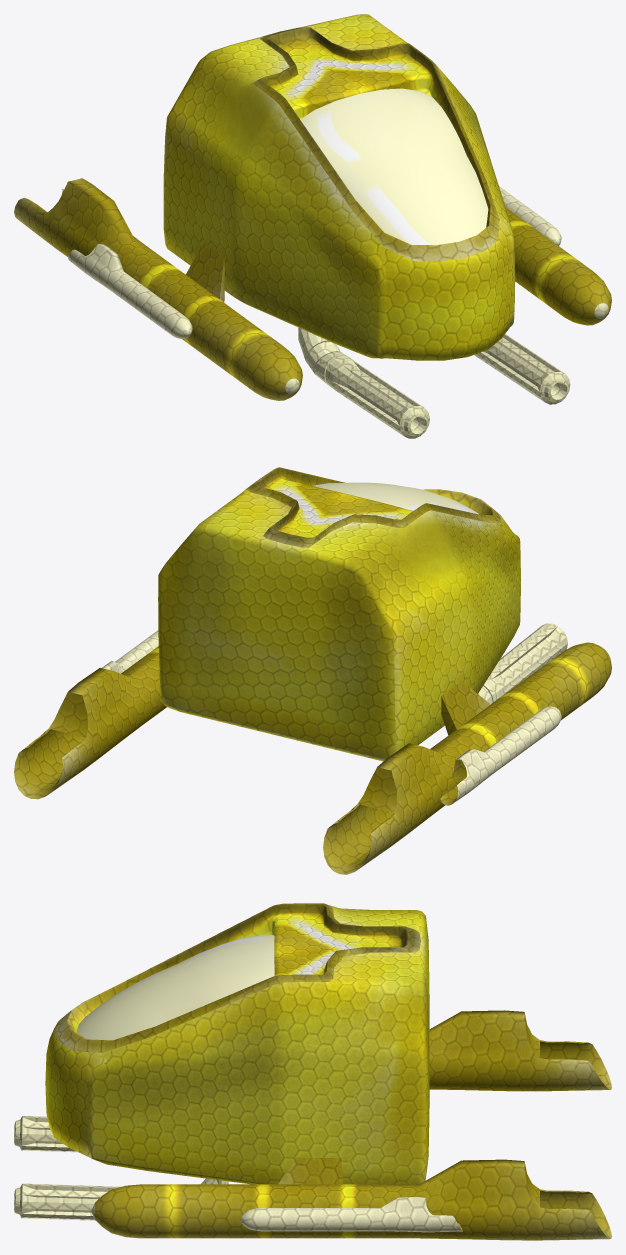
The model's file is frogUV (1).fbx.
3 renders of one model, top to bottom at view 1: azimuth 30°, elevation 25°; view 2: azimuth 150°, elevation 25°; view 3: azimuth 270°, elevation 25°, orthographic.
Visible parts, largest first — view 1: pCube4, Thruster1, pSphere2, Thruster, pCylinder1, pCylinder2; view 2: pCube4, Thruster1, Thruster, pCylinder1, pSphere2; view 3: pCube4, Thruster, Thruster1, pSphere2, pCylinder2, pCylinder1.
Boxes of the visible parts, x1,y1,x2,y2 form: pCube4: [163, 14, 515, 360]; Thruster1: [14, 178, 302, 400]; pSphere2: [300, 88, 488, 245]; Thruster: [499, 186, 611, 325]; pCylinder1: [298, 327, 429, 438]; pCylinder2: [474, 334, 570, 404]; pCube4: [158, 467, 520, 761]; Thruster1: [323, 642, 611, 874]; Thruster: [14, 630, 166, 799]; pCylinder1: [478, 623, 567, 704]; pSphere2: [312, 482, 478, 514]; pCube4: [45, 903, 429, 1184]; Thruster: [91, 1157, 611, 1240]; Thruster1: [429, 1010, 611, 1091]; pSphere2: [76, 934, 274, 1040]; pCylinder2: [14, 1178, 228, 1220]; pCylinder1: [14, 1116, 77, 1152].
Size of the model in its own units: 16.29 by 10.07 by 21.92.
1 material, 1 textured.
